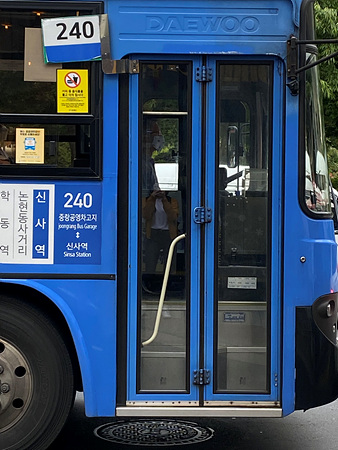entrance: (130, 53, 280, 404)
